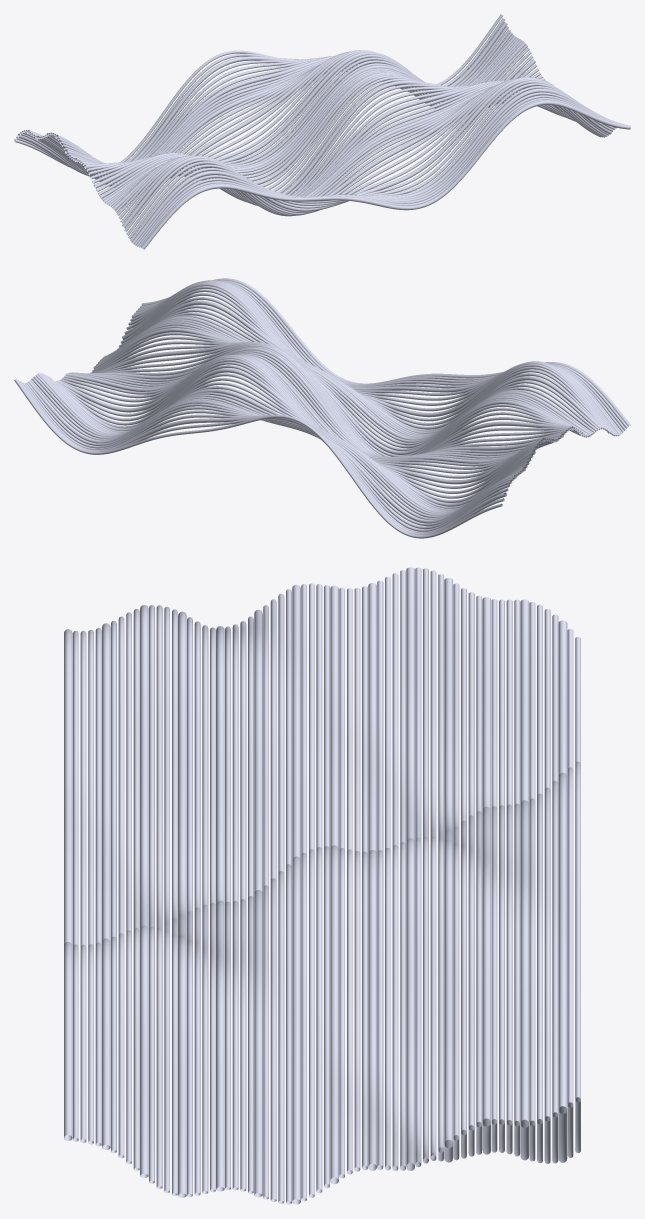
The model's file is chroma.glb.
3 renders of one model, top to bottom at view 1: azimuth 30°, elevation 25°; view 2: azimuth 150°, elevation 25°; view 3: azimuth 270°, elevation 25°, orthographic. The views are drawn at different scales.
Parts seen in each view (by area): view 1: Chroma / liquid filament 00, Chroma / liquid filament 10, Chroma / liquid filament 05, Chroma / liquid filament 65, Chroma / liquid filament 08, Chroma / liquid filament 09, Chroma / liquid filament 07, Chroma / liquid filament 25, Chroma / liquid filament 03, Chroma / liquid filament 04, Chroma / liquid filament 15, Chroma / liquid filament 12 (+56 smaller); view 2: Chroma / liquid filament 67, Chroma / liquid filament 60, Chroma / liquid filament 65, Chroma / liquid filament 25, Chroma / liquid filament 10, Chroma / liquid filament 45, Chroma / liquid filament 15, Chroma / liquid filament 30, Chroma / liquid filament 50, Chroma / liquid filament 00, Chroma / liquid filament 35, Chroma / liquid filament 62 (+56 smaller); view 3: Chroma / liquid filament 60, Chroma / liquid filament 30, Chroma / liquid filament 45, Chroma / liquid filament 65, Chroma / liquid filament 35, Chroma / liquid filament 40, Chroma / liquid filament 25, Chroma / liquid filament 15, Chroma / liquid filament 50, Chroma / liquid filament 10, Chroma / liquid filament 20, Chroma / liquid filament 55 (+56 smaller).
Boxes of the visible parts, bbox=[...] form: Chroma / liquid filament 00: bbox=[141, 100, 630, 249]; Chroma / liquid filament 10: bbox=[122, 77, 611, 227]; Chroma / liquid filament 05: bbox=[131, 88, 620, 243]; Chroma / liquid filament 65: bbox=[17, 21, 507, 176]; Chroma / liquid filament 08: bbox=[126, 80, 615, 235]; Chroma / liquid filament 09: bbox=[124, 79, 613, 231]; Chroma / liquid filament 07: bbox=[128, 83, 616, 239]; Chroma / liquid filament 25: bbox=[93, 80, 569, 201]; Chroma / liquid filament 03: bbox=[136, 95, 624, 246]; Chroma / liquid filament 04: bbox=[134, 92, 620, 245]; Chroma / liquid filament 15: bbox=[112, 84, 600, 216]; Chroma / liquid filament 12: bbox=[118, 78, 607, 219]; Chroma / liquid filament 67: bbox=[14, 378, 502, 538]; Chroma / liquid filament 60: bbox=[28, 380, 516, 523]; Chroma / liquid filament 65: bbox=[19, 380, 506, 534]; Chroma / liquid filament 25: bbox=[93, 328, 582, 454]; Chroma / liquid filament 10: bbox=[122, 283, 611, 433]; Chroma / liquid filament 45: bbox=[56, 355, 544, 484]; Chroma / liquid filament 15: bbox=[147, 300, 602, 433]; Chroma / liquid filament 30: bbox=[97, 342, 573, 453]; Chroma / liquid filament 50: bbox=[48, 368, 535, 506]; Chroma / liquid filament 00: bbox=[141, 278, 630, 426]; Chroma / liquid filament 35: bbox=[90, 347, 563, 455]; Chroma / liquid filament 62: bbox=[25, 382, 512, 529]; Chroma / liquid filament 60: bbox=[520, 599, 529, 1160]; Chroma / liquid filament 30: bbox=[292, 584, 300, 1204]; Chroma / liquid filament 45: bbox=[406, 567, 414, 1170]; Chroma / liquid filament 65: bbox=[558, 620, 567, 1162]; Chroma / liquid filament 35: bbox=[330, 585, 338, 1184]; Chroma / liquid filament 40: bbox=[368, 583, 376, 1170]; Chroma / liquid filament 25: bbox=[254, 609, 262, 1197]; Chroma / liquid filament 15: bbox=[178, 611, 186, 1197]; Chroma / liquid filament 50: bbox=[444, 578, 452, 1162]; Chroma / liquid filament 10: bbox=[140, 605, 148, 1177]; Chroma / liquid filament 20: bbox=[216, 626, 224, 1191]; Chroma / liquid filament 55: bbox=[482, 597, 490, 1154].
Bounding box in the file's own units: 9.65 × 1.93 × 4.42.
